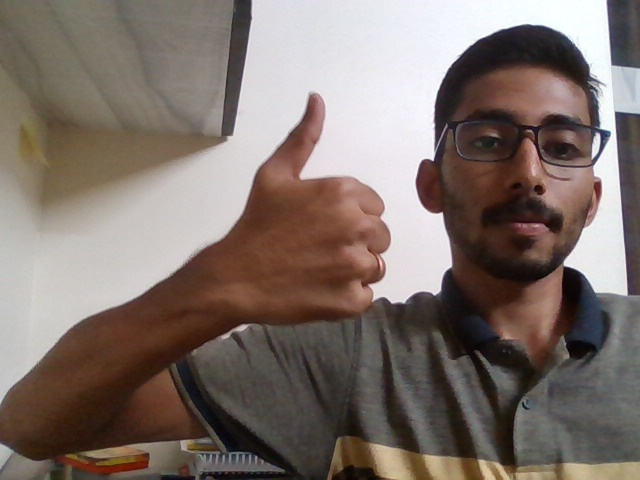Yes: (172, 79, 405, 351)
